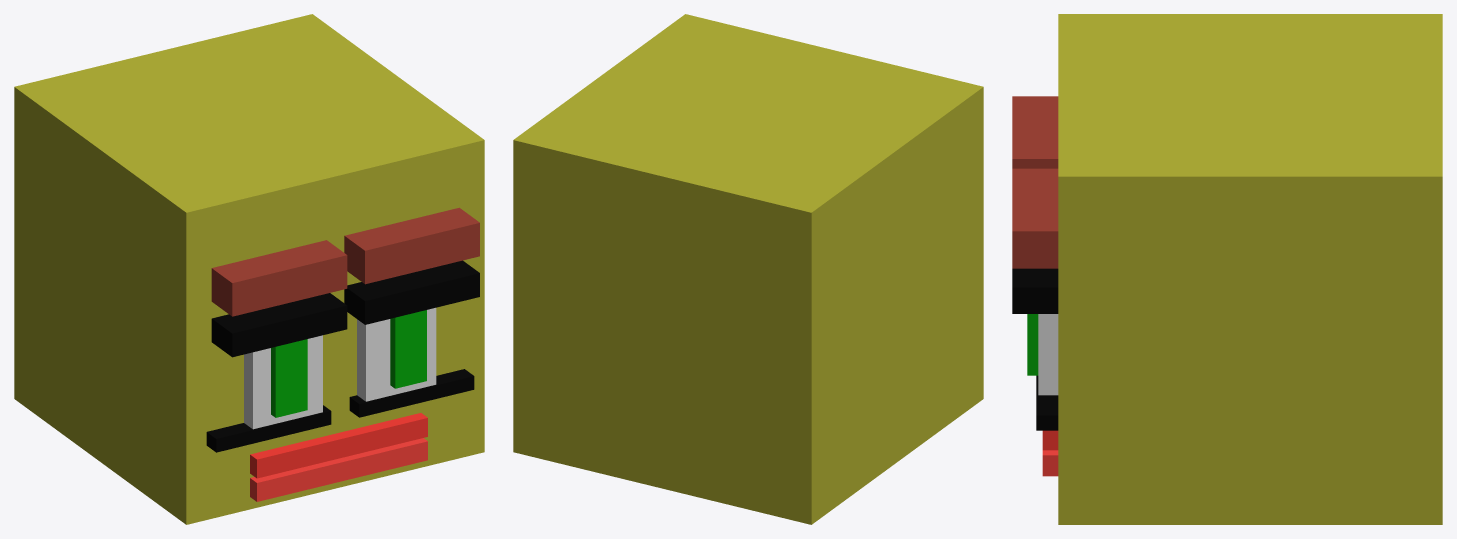
3 renders of one model, left to right at view 1: azimuth 30°, elevation 25°; view 2: azimuth 150°, elevation 25°; view 3: azimuth 270°, elevation 25°, orthographic. The views are drawn at different scales.
Parts seen in each view (by area): view 1: Cube.005; view 2: Cube.005; view 3: Cube.005.
Boxes of the visible parts, x1,y1,x2,y2 form: Cube.005: (14,14,484,524); Cube.005: (513,14,983,524); Cube.005: (1012,14,1442,524).
Size of the model in its own units: 3.49 by 3.49 by 3.9.
